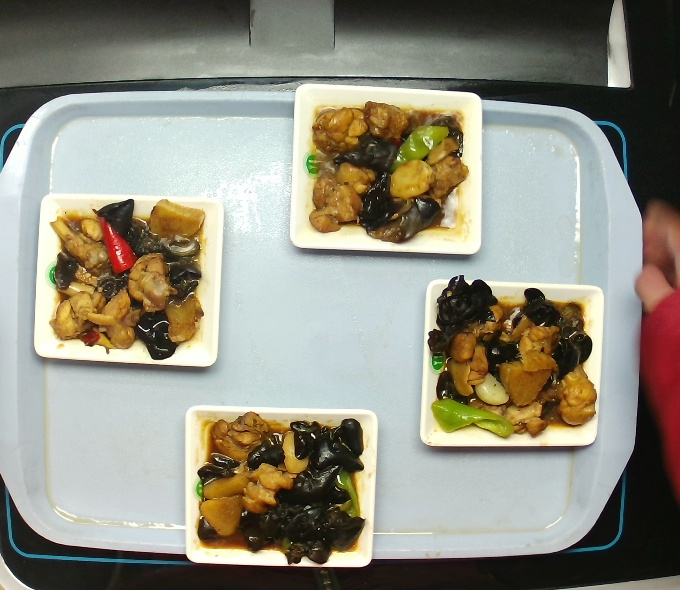wcq-MuErJiRou: (41, 183, 209, 367), (199, 404, 362, 566), (434, 271, 588, 434), (300, 96, 470, 243)
